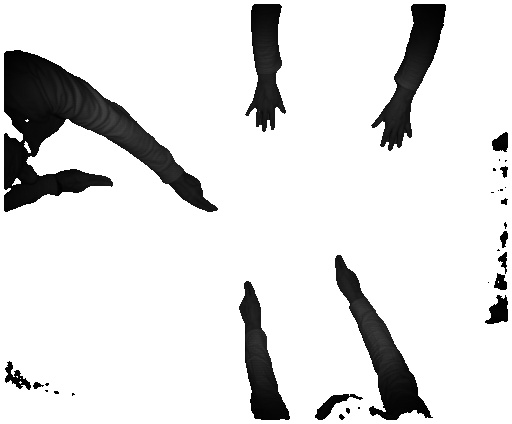hand: (245, 81, 287, 135), (368, 103, 415, 151), (176, 176, 223, 215), (58, 168, 114, 199), (328, 248, 361, 300), (232, 280, 263, 327)
